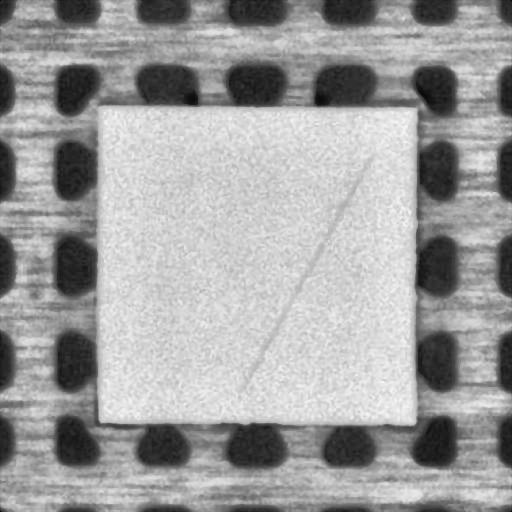DIE_CRACK: (237, 154, 370, 397)
